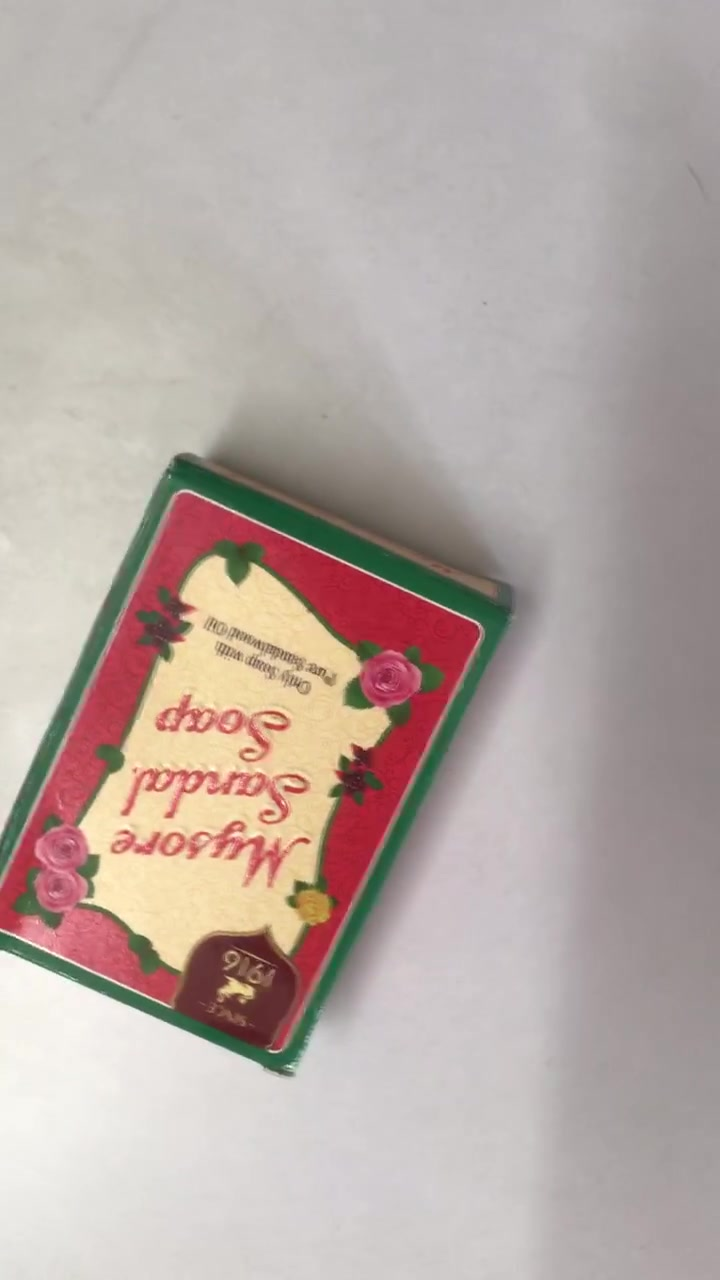mysore sandal soap: (5, 455, 513, 1071)
